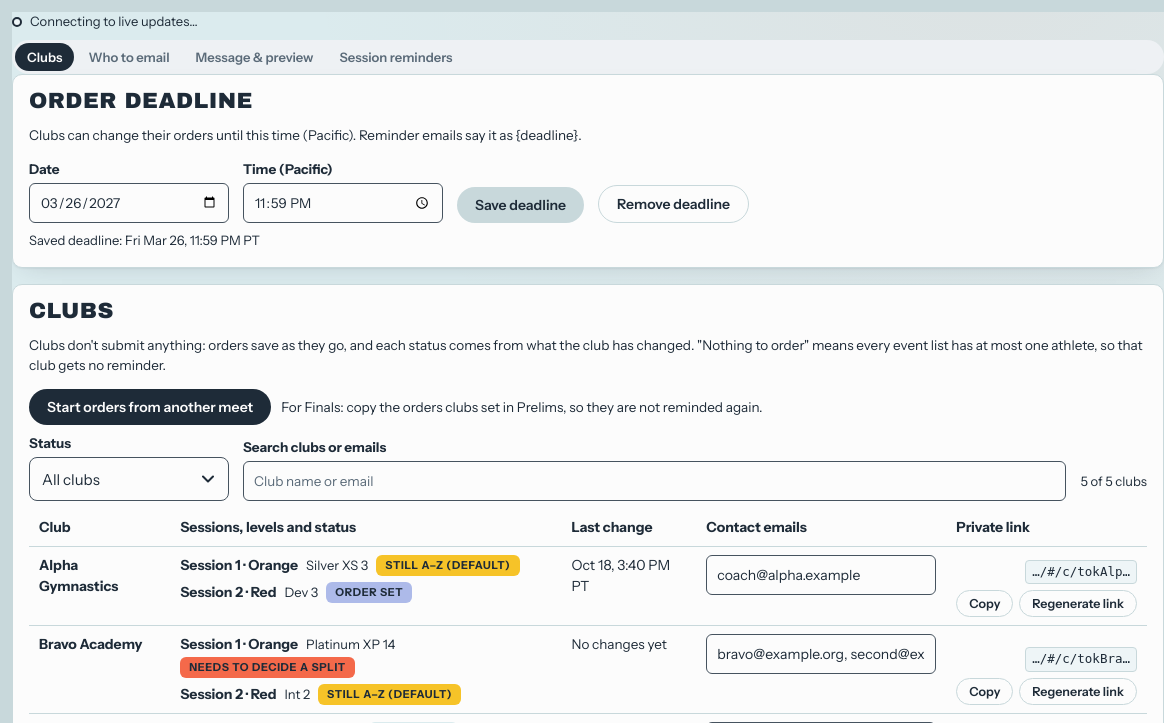
Test: Clubs table › filters by status and by search text
This screenshot has width=1164, height=723.
Expected: the heading "Clubs" is shown, [29,299,114,323]
Click the dropdown named "Status" at (129, 479), box [29,457,229,501]
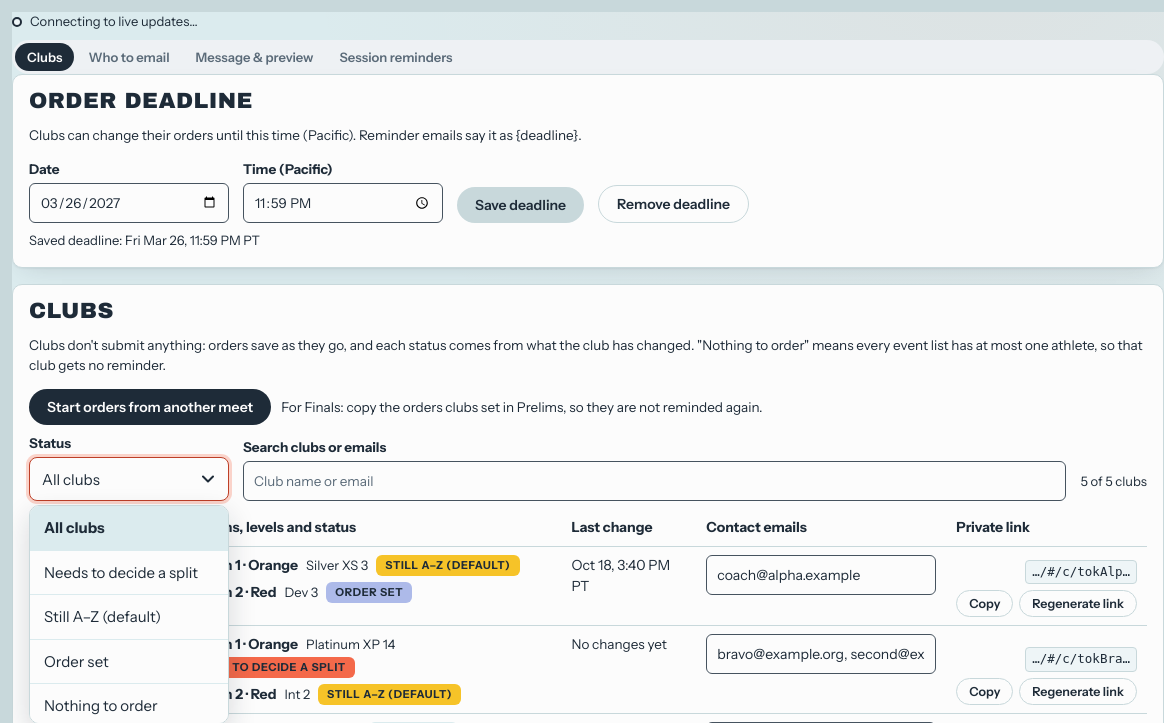
Click the option "Needs to decide a split" at (129, 573), box [30,551,228,595]
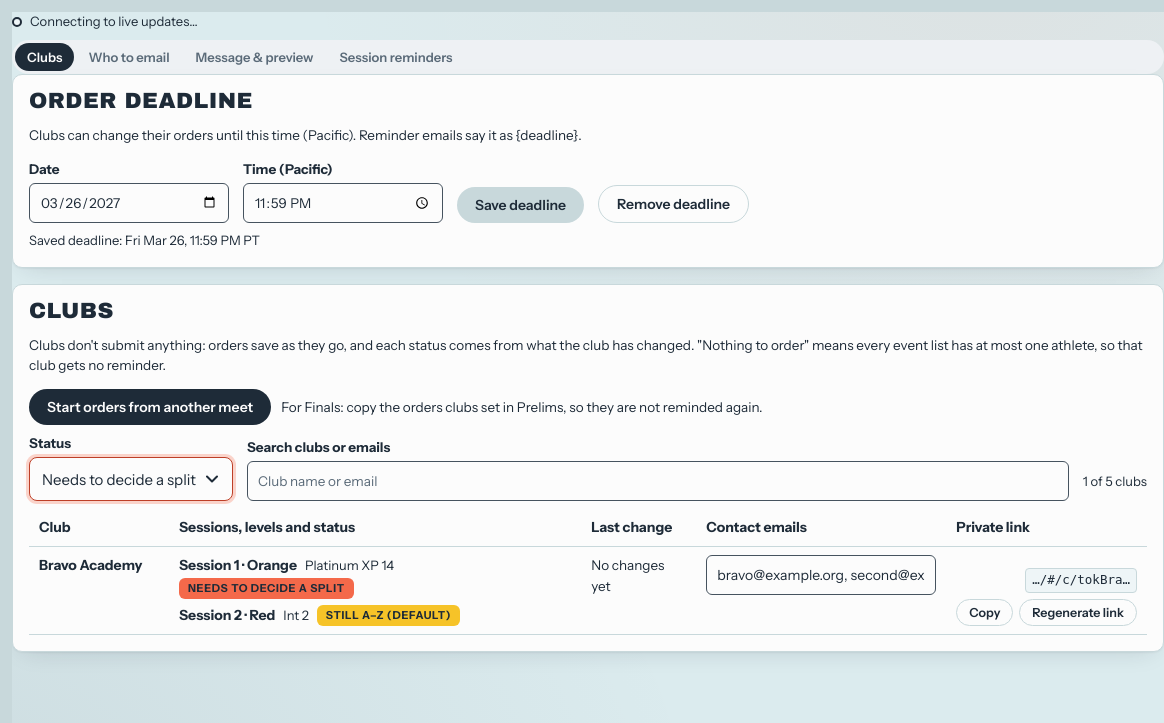
Expected: the text "1 of 5 clubs" is shown, [1083,473,1147,489]
Expected: the column heading "Alpha" is gone
Click the dropdown named "Status" at (131, 479), box [29,457,233,501]
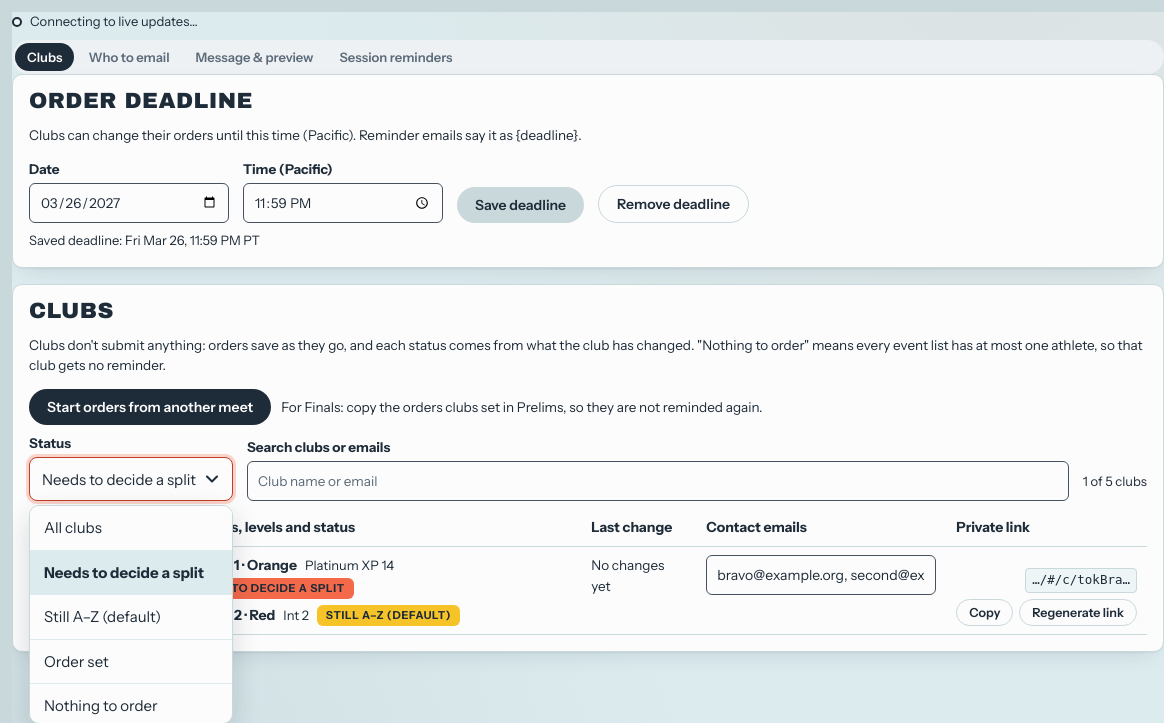
Click the option "All clubs" at (131, 529), box [30,506,232,551]
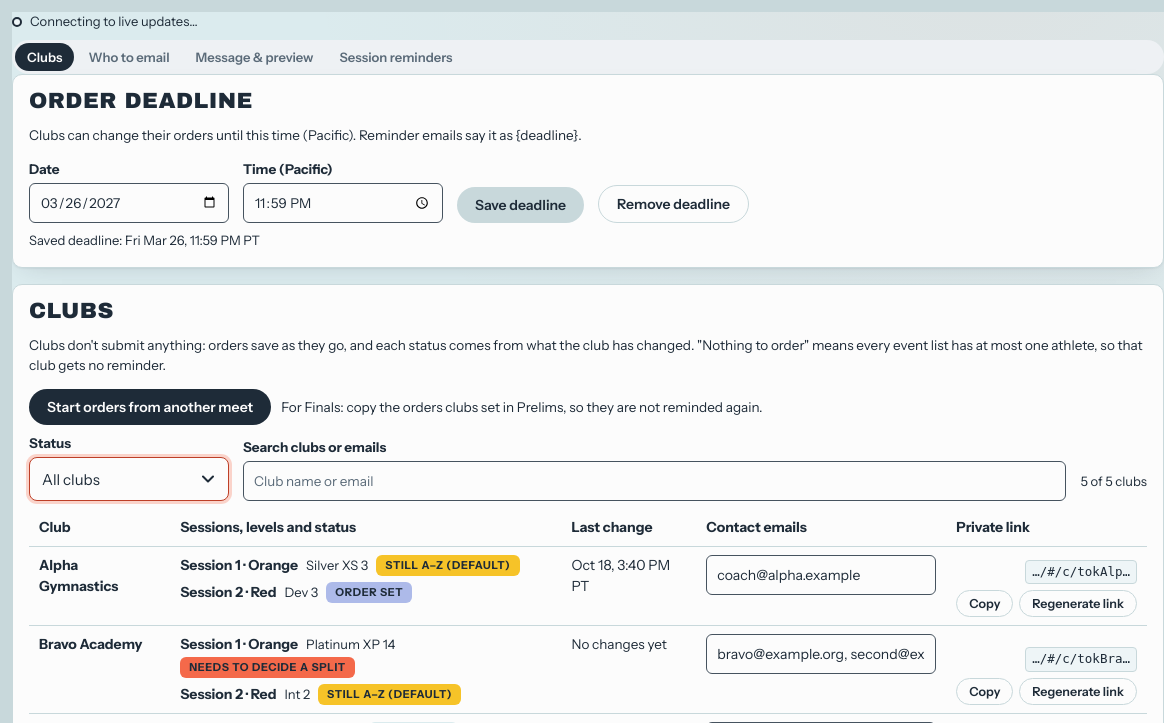
Type "echo@" into the search field labelled "Search clubs or emails" at (655, 481), box [243,461,1066,501]
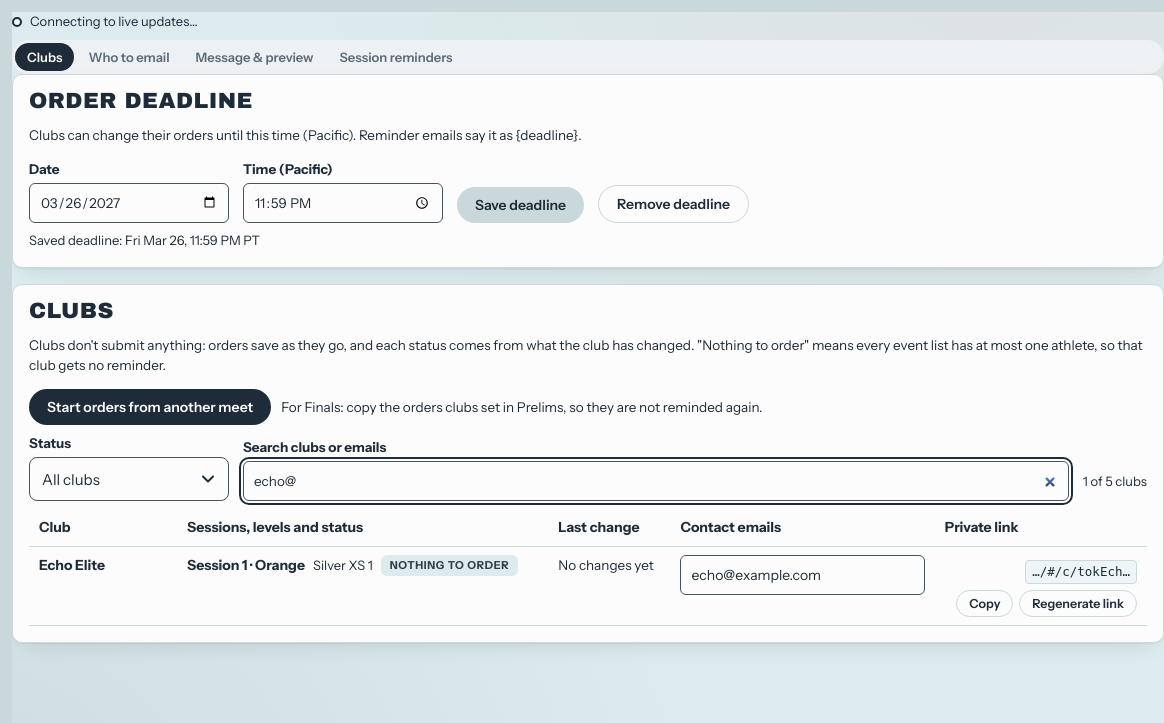
Expected: the row "Echo Elite" is shown, [29,547,1147,626]
Expected: the text "1 of 5 clubs" is shown, [1083,473,1147,489]
